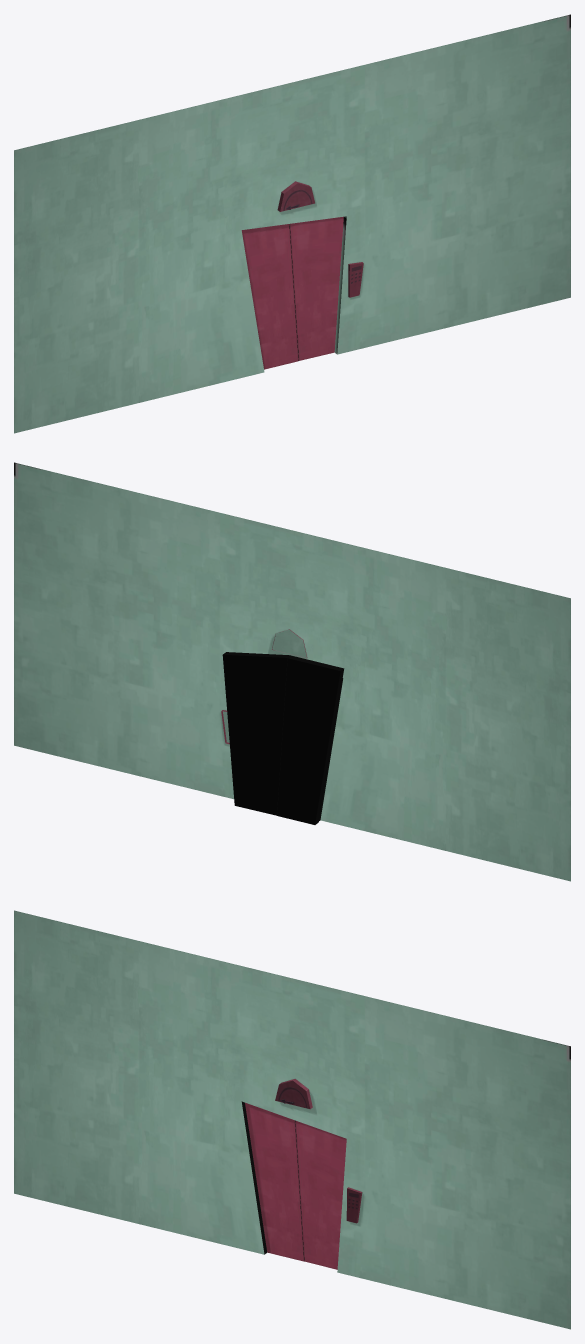
File: newElevatorMenuModels.fbx
The picture shows the model from 3 angles, top to bottom: view 1: azimuth 30°, elevation 25°; view 2: azimuth 150°, elevation 25°; view 3: azimuth 330°, elevation 25°; orthographic projection.
Visible parts, largest first — view 1: polySurface10, polySurface6, polySurface9, polySurface2; view 2: polySurface10, polySurface6, polySurface9; view 3: polySurface10, polySurface9, polySurface6, polySurface2.
Boxes of the visible parts, x1,y1,x2,y2 form: polySurface10: (14,14,570,433); polySurface6: (289,216,343,360); polySurface9: (241,224,298,369); polySurface2: (277,181,314,211); polySurface10: (14,462,570,881); polySurface6: (222,652,290,815); polySurface9: (277,655,344,824); polySurface10: (14,910,570,1329); polySurface9: (245,1102,304,1261); polySurface6: (295,1120,346,1269); polySurface2: (275,1079,312,1109).
Size of the model in its own units: 26.43 by 12.84 by 0.7765.
